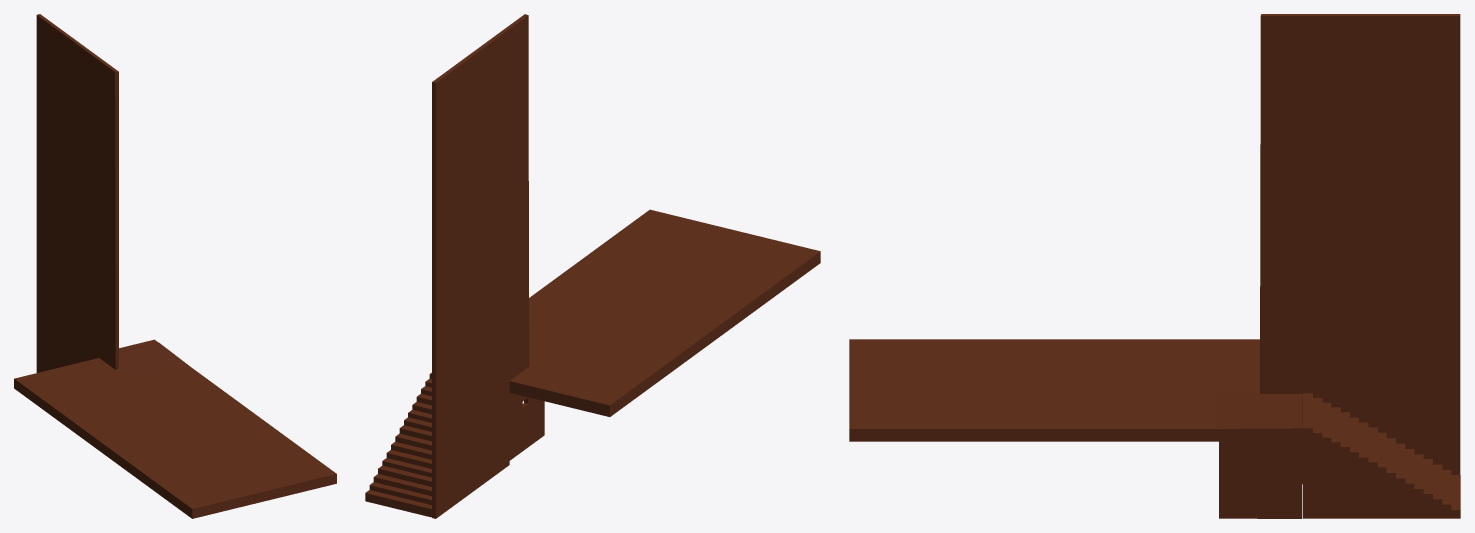
Rendered from escada_level0fbx.fbx.
3 renders of one model, left to right at view 1: azimuth 30°, elevation 25°; view 2: azimuth 150°, elevation 25°; view 3: azimuth 270°, elevation 25°, orthographic. The views are drawn at different scales.
Visible parts, largest first — view 1: escadas; view 2: escadas; view 3: escadas.
Boxes of the visible parts, x1=… form: escadas: x1=14, y1=14, x2=336, y2=518; escadas: x1=365, y1=14, x2=820, y2=518; escadas: x1=849, y1=14, x2=1460, y2=518.
Size of the model in its own units: 896 by 2176 by 2574.
